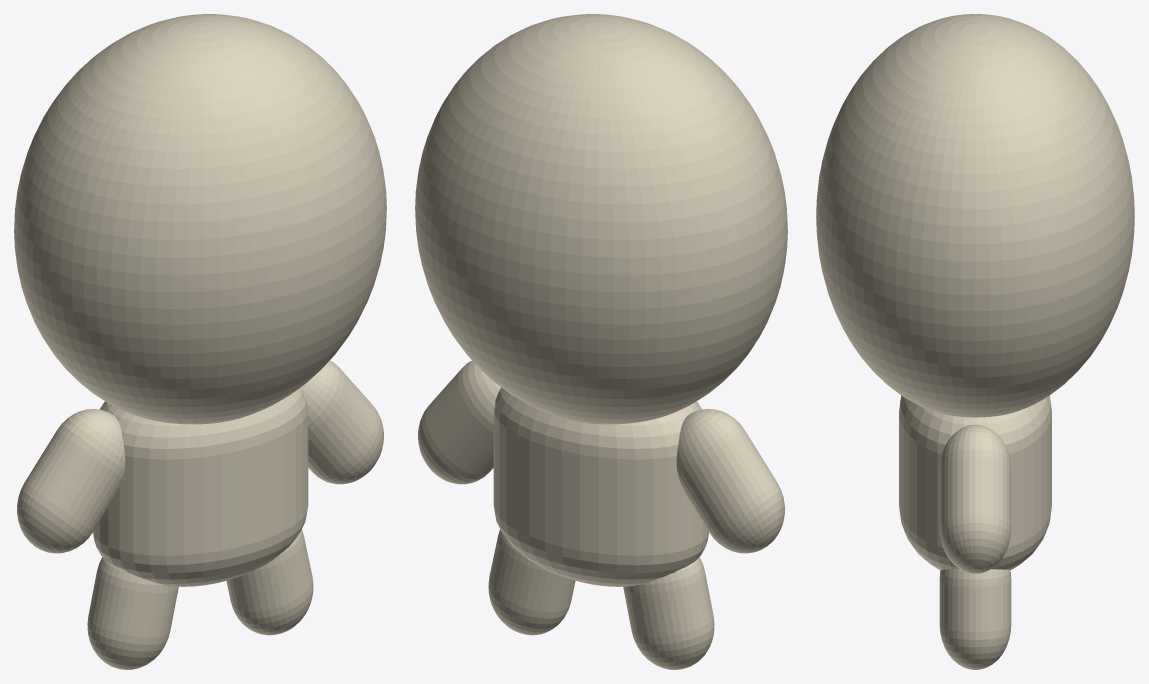
Rendered from Brave Lahdi-Albar.glb.
The picture shows the model from 3 angles, left to right: view 1: azimuth 30°, elevation 25°; view 2: azimuth 150°, elevation 25°; view 3: azimuth 270°, elevation 25°; orthographic projection. The views are drawn at different scales.
Parts seen in each view (by area): view 1: Mesh_Mesh_head_geo.001_lambert2SG.001; view 2: Mesh_Mesh_head_geo.001_lambert2SG.001; view 3: Mesh_Mesh_head_geo.001_lambert2SG.001.
Part boxes in pixels (x1,y1,x2,y2): Mesh_Mesh_head_geo.001_lambert2SG.001: (14, 14, 386, 669); Mesh_Mesh_head_geo.001_lambert2SG.001: (415, 14, 787, 669); Mesh_Mesh_head_geo.001_lambert2SG.001: (816, 14, 1134, 669).
Bounding box in the file's own units: 0.039 × 0.0647 × 0.031.
